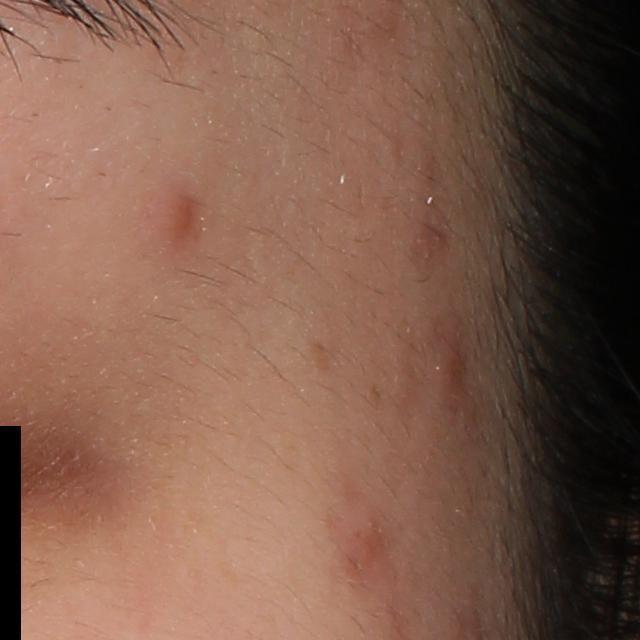papule: (148, 187, 206, 252), (439, 345, 469, 402)
